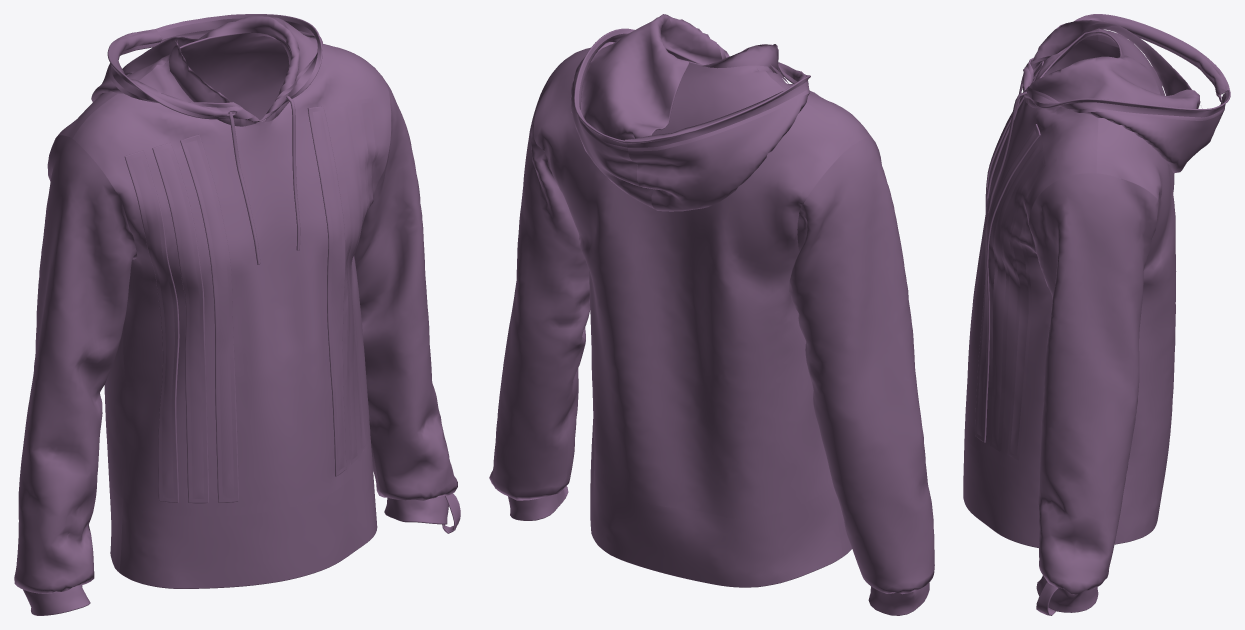
The model's file is 1762473394380-lugaFata.glb.
The picture shows the model from 3 angles, left to right: view 1: azimuth 30°, elevation 25°; view 2: azimuth 150°, elevation 25°; view 3: azimuth 270°, elevation 25°; orthographic projection. The views are drawn at different scales.
Visible parts, largest first — view 1: Cloth_1; view 2: Cloth_1; view 3: Cloth_1.
Part boxes in pixels (x1,y1,x2,y2): Cloth_1: (14,14,460,615); Cloth_1: (489,14,934,615); Cloth_1: (963,14,1230,615).
Size of the model in its own units: 0.064 by 0.0754 by 0.0375.
Materials: 3 (1 with a texture image).
